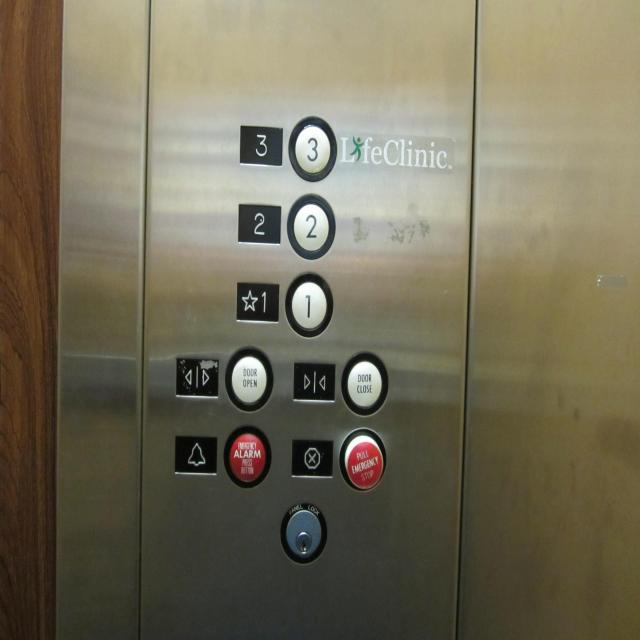1: (284, 271, 334, 338)
2: (286, 193, 336, 260), (238, 203, 281, 245)
3: (288, 114, 337, 184), (238, 122, 284, 170)
alarm: (173, 434, 218, 476)
close: (291, 360, 337, 403)
keyhole: (280, 502, 327, 564)
open: (174, 356, 220, 399)
s1: (236, 282, 280, 322)
stop: (289, 437, 334, 479)
text: (225, 346, 273, 412), (340, 350, 388, 415), (223, 426, 271, 488), (339, 428, 386, 491)
